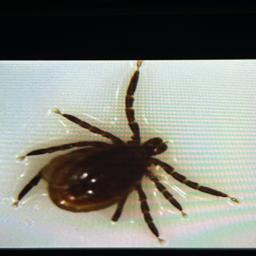Ixodes scapularis: (12, 60, 238, 245)
